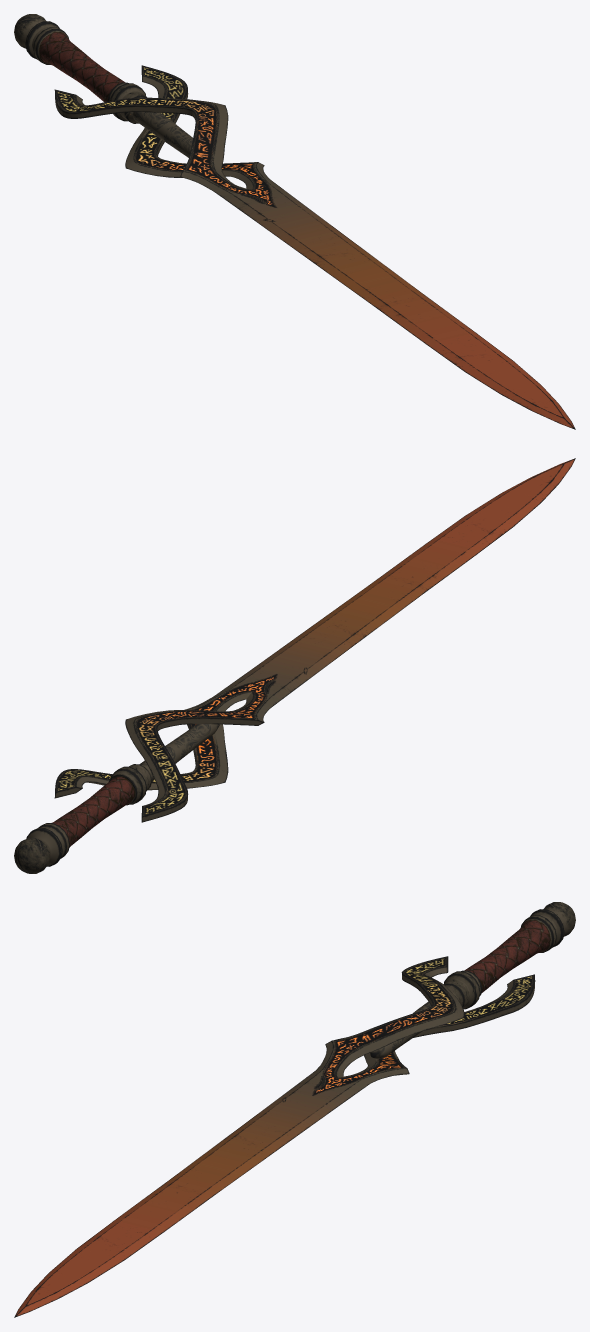
File: fantasy_sword.glb
3 renders of one model, top to bottom at view 1: azimuth 30°, elevation 25°; view 2: azimuth 150°, elevation 25°; view 3: azimuth 330°, elevation 25°, orthographic.
Parts seen in each view (by area): view 1: SurfCurve.010, Cylinder.007; view 2: SurfCurve.010, Cylinder.007; view 3: SurfCurve.010, Cylinder.007.
Part boxes in pixels (bbox=[...]): SurfCurve.010: bbox=[54, 65, 575, 429]; Cylinder.007: bbox=[14, 14, 192, 157]; SurfCurve.010: bbox=[54, 458, 575, 822]; Cylinder.007: bbox=[14, 724, 219, 873]; SurfCurve.010: bbox=[14, 956, 535, 1317]; Cylinder.007: bbox=[370, 902, 575, 1058].
Size of the model in its own units: 0.3843 by 0.135 by 3.03.
Materials: 1 (1 with a texture image).
